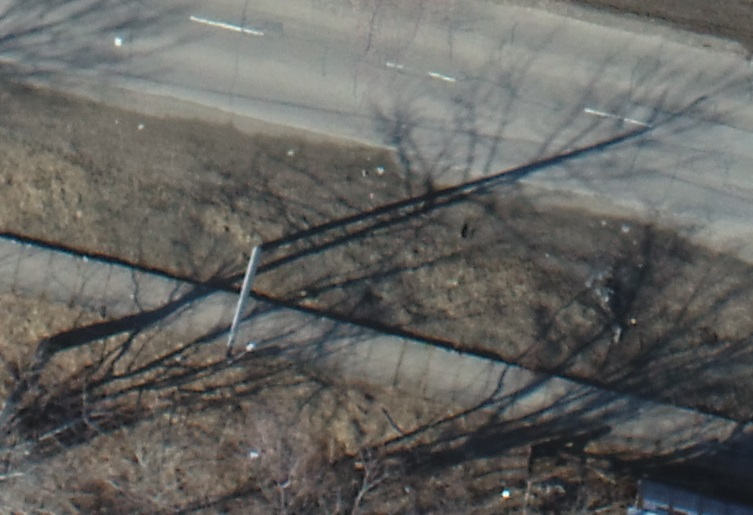opora: (220, 223, 333, 362)
